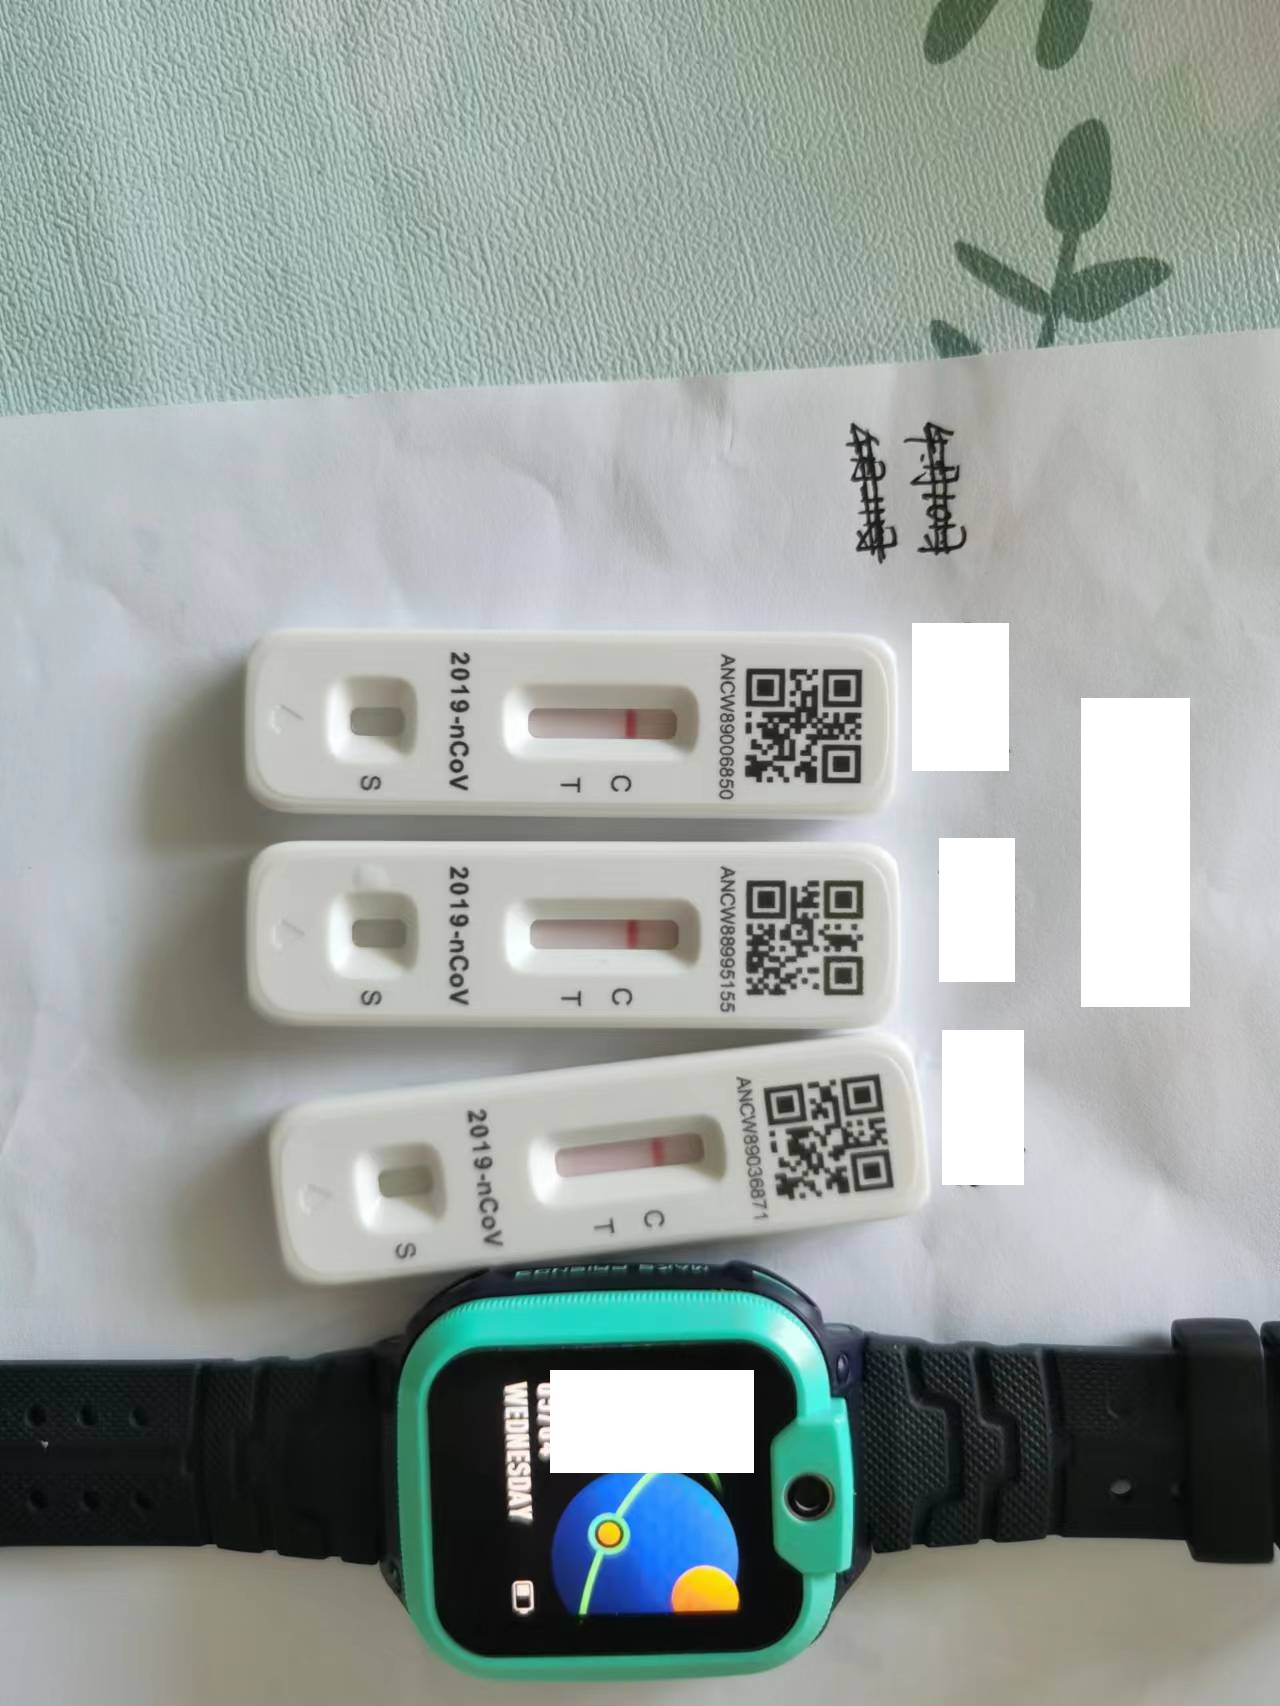negative: (502, 679, 714, 762), (532, 1113, 735, 1196), (504, 893, 713, 973)
